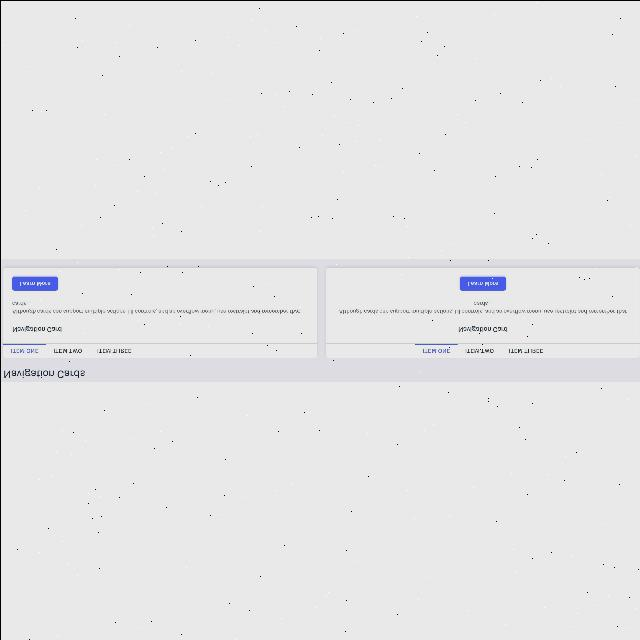QLabel: (11, 300, 301, 314), (337, 308, 627, 314), (2, 368, 84, 378), (457, 324, 508, 334), (11, 326, 62, 332), (508, 346, 542, 354), (421, 346, 449, 354), (96, 348, 130, 354), (465, 280, 497, 286), (8, 348, 38, 354), (52, 347, 82, 353), (463, 348, 493, 354), (18, 280, 50, 284), (472, 300, 492, 306)
VBtn: (457, 276, 505, 290), (10, 276, 58, 290)
VTabs: (324, 266, 640, 358), (2, 266, 316, 358)
